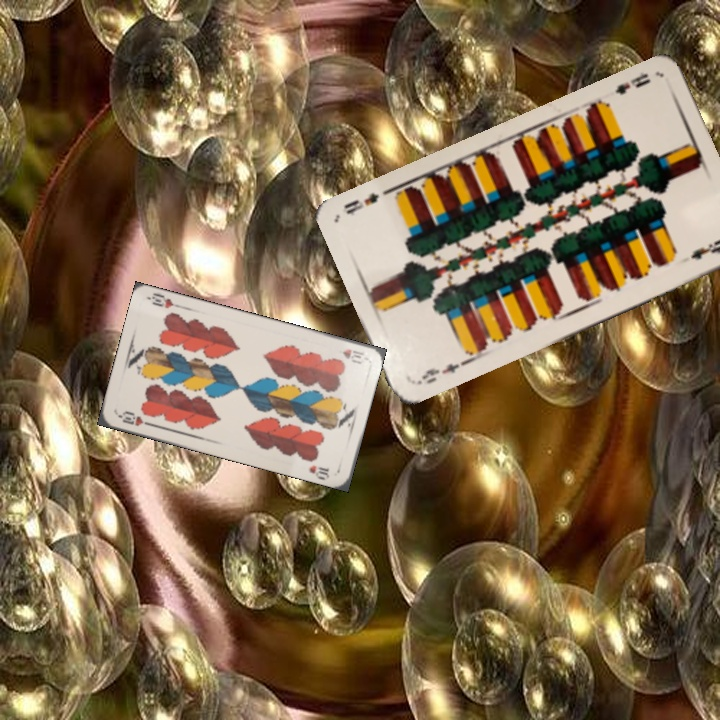E9: (412, 356, 468, 388), (610, 67, 654, 97)
H10: (114, 407, 154, 429), (338, 345, 367, 366)
